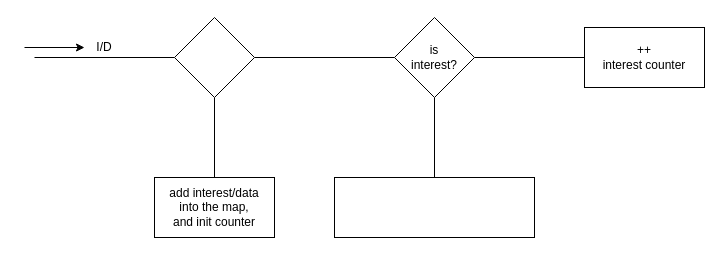
Some shapes in this 722 by 255 pixel diagram are drawn without their labels. Here are the shapes that lost their labels. From the top down, the centre of each, then its label:
At point 214,57: "in map?".
At point 434,207: "compute EMA, remove corresponding interest, ++ data counter".
